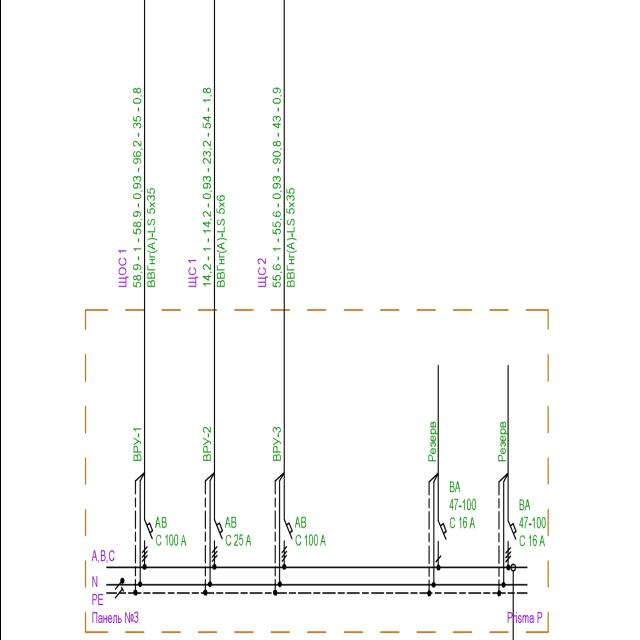-: (446, 479, 478, 532), (518, 498, 546, 550), (294, 514, 326, 548), (154, 514, 186, 548), (222, 516, 252, 550), (504, 610, 544, 628), (116, 244, 128, 290), (185, 256, 199, 292), (255, 256, 268, 292)
QF: (432, 518, 447, 564), (210, 518, 223, 564), (279, 518, 292, 563), (140, 517, 152, 563), (504, 518, 516, 562)
